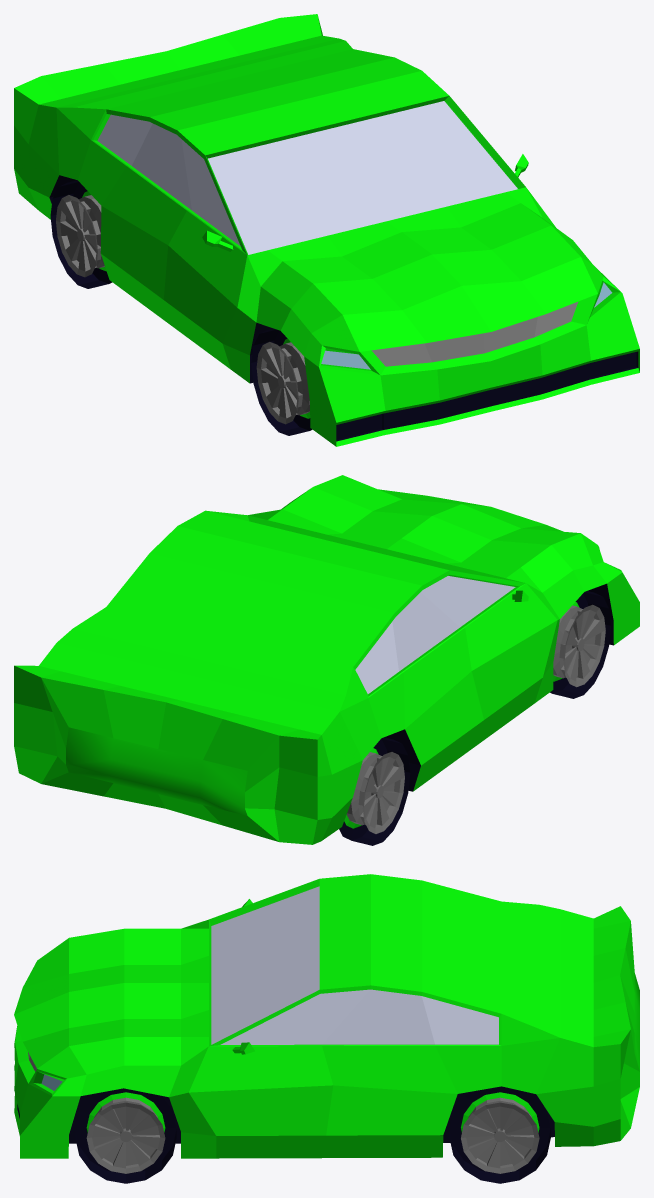
File: CarGreen.fbx
3 renders of one model, top to bottom at view 1: azimuth 30°, elevation 25°; view 2: azimuth 150°, elevation 25°; view 3: azimuth 270°, elevation 25°, orthographic. The views are drawn at different scales.
Parts seen in each view (by area): view 1: Cube; view 2: Cube; view 3: Cube.
Boxes of the visible parts, <box> form: Cube: <box>14,14,639,446</box>; Cube: <box>14,475,639,845</box>; Cube: <box>14,874,639,1183</box>.
Bounding box in the file's own units: 243 × 143 × 439.
